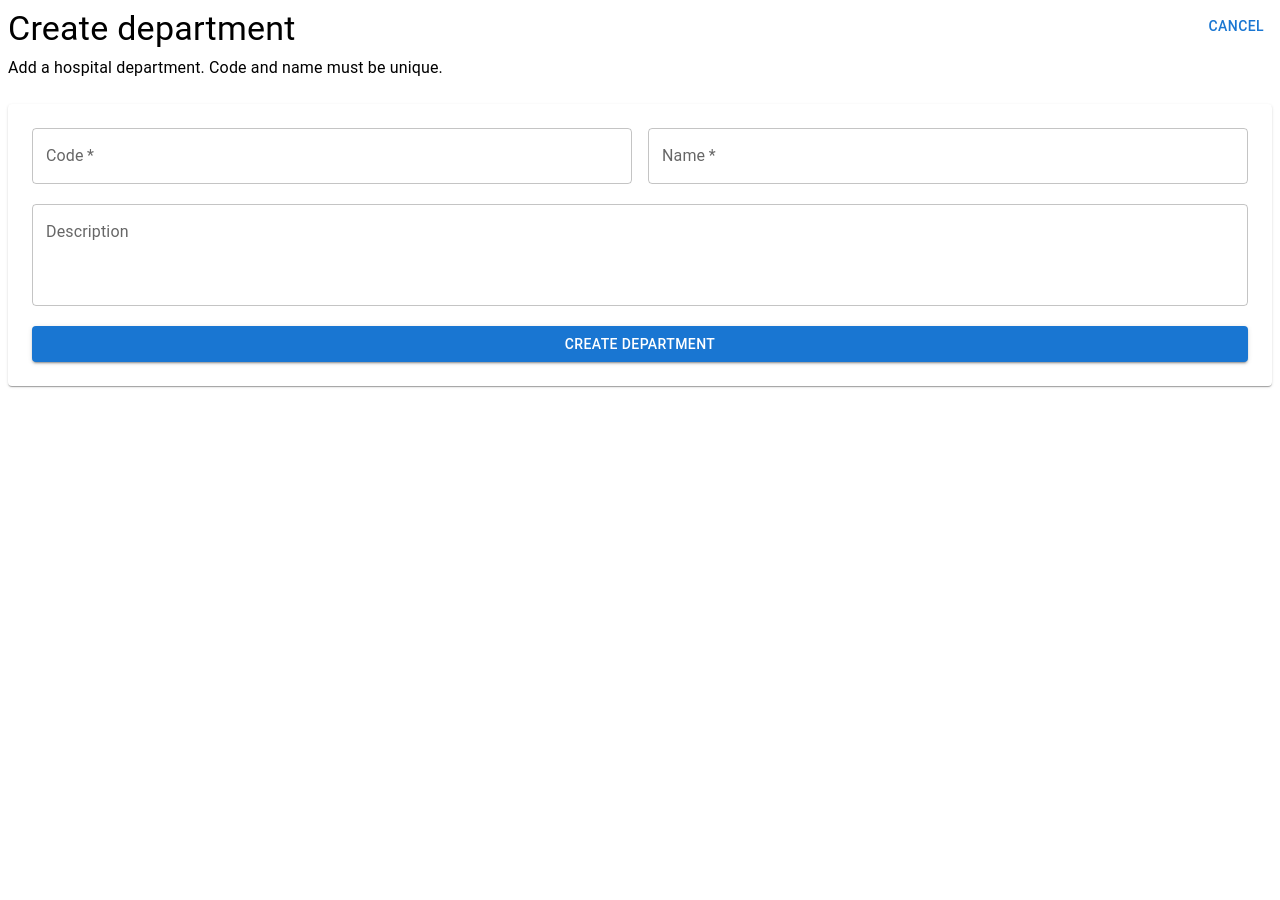
Scenario: department create and query invalidation › creates a department and navigates to details
Step 1. Type "CARD" into the field labelled "Code *" → (332, 156), box [32,128,632,184]
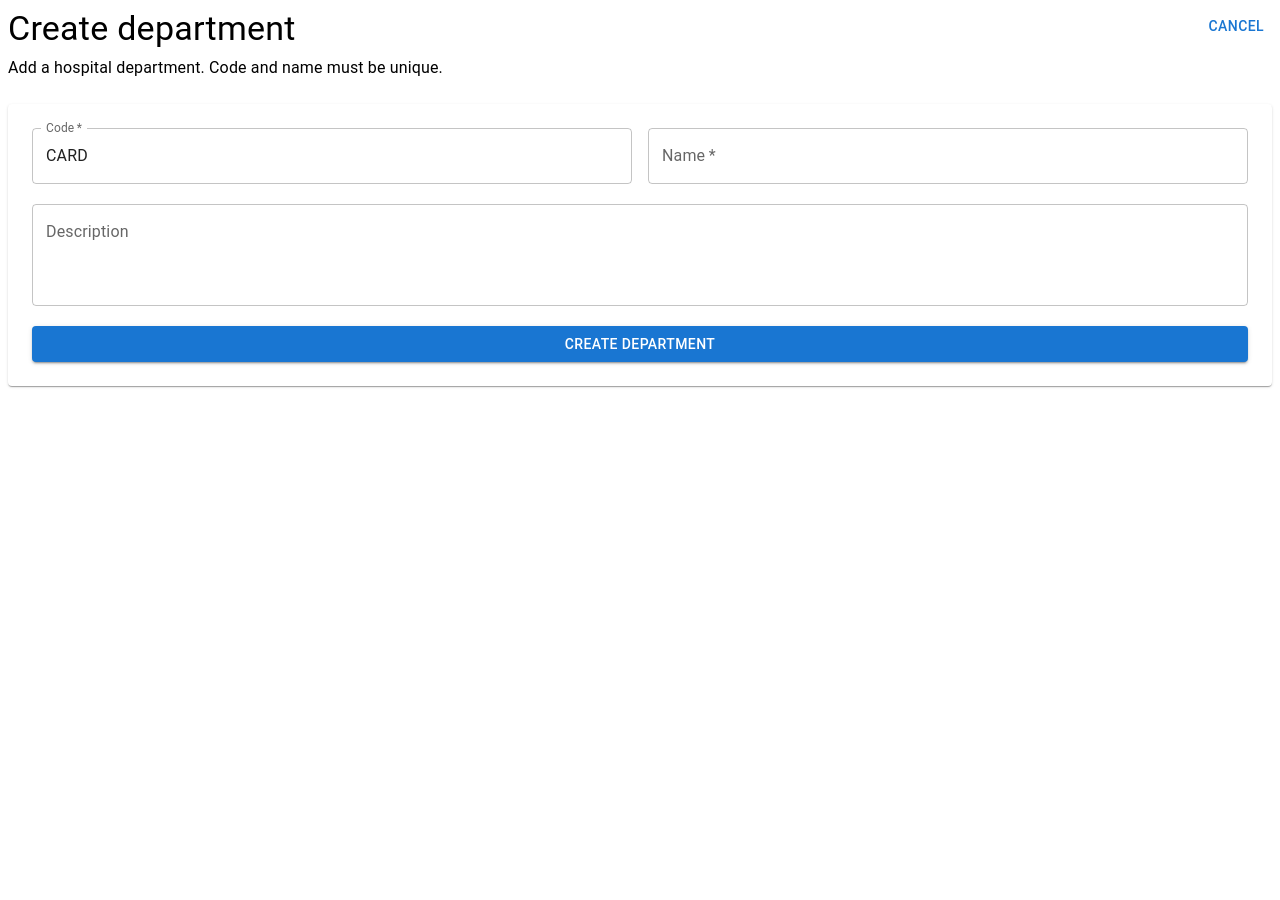
Step 2. Type "Cardiology" into the field labelled "Name *" → (948, 156), box [648,128,1248,184]
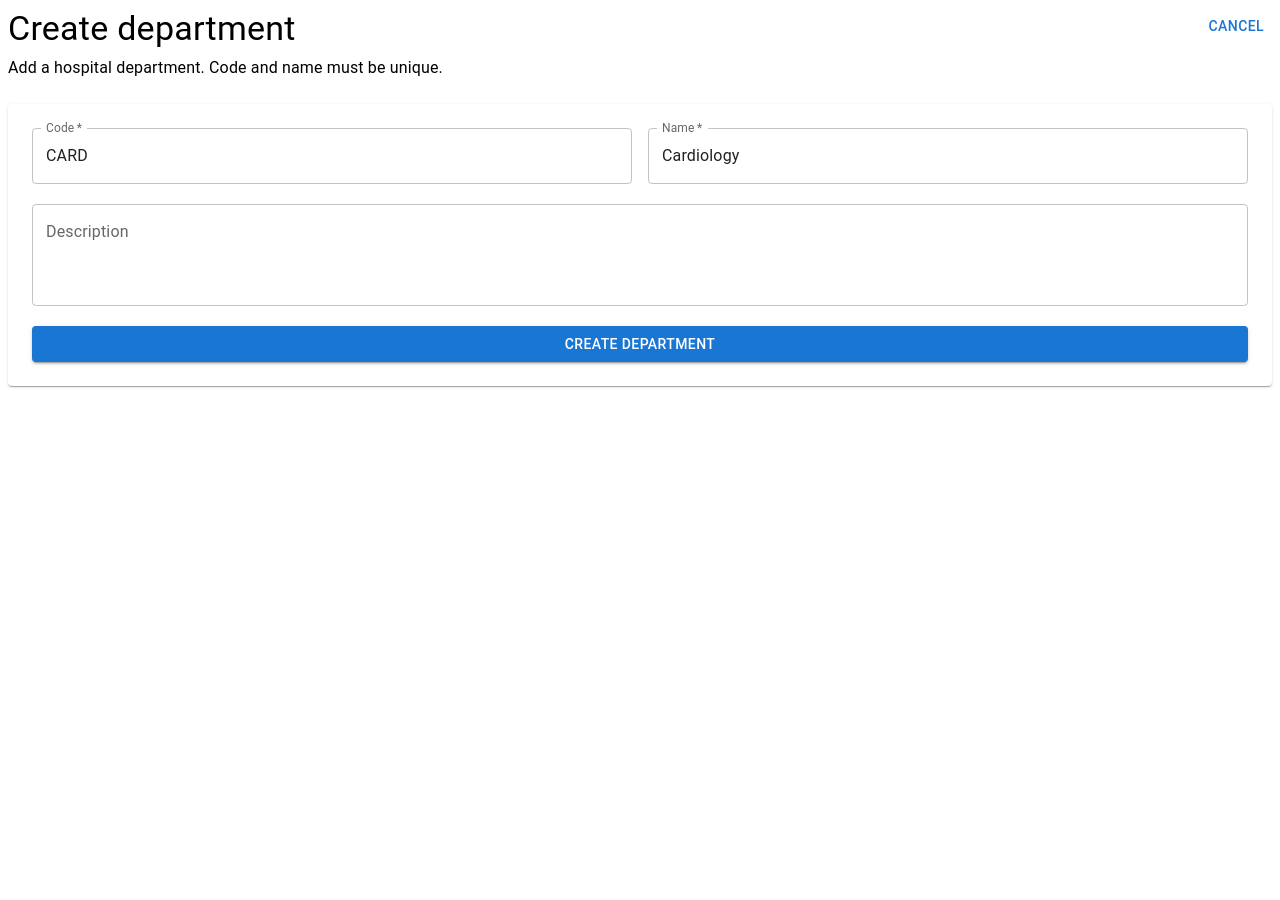
Step 3. Click the button "Create department" → (640, 344), box [32,326,1248,362]
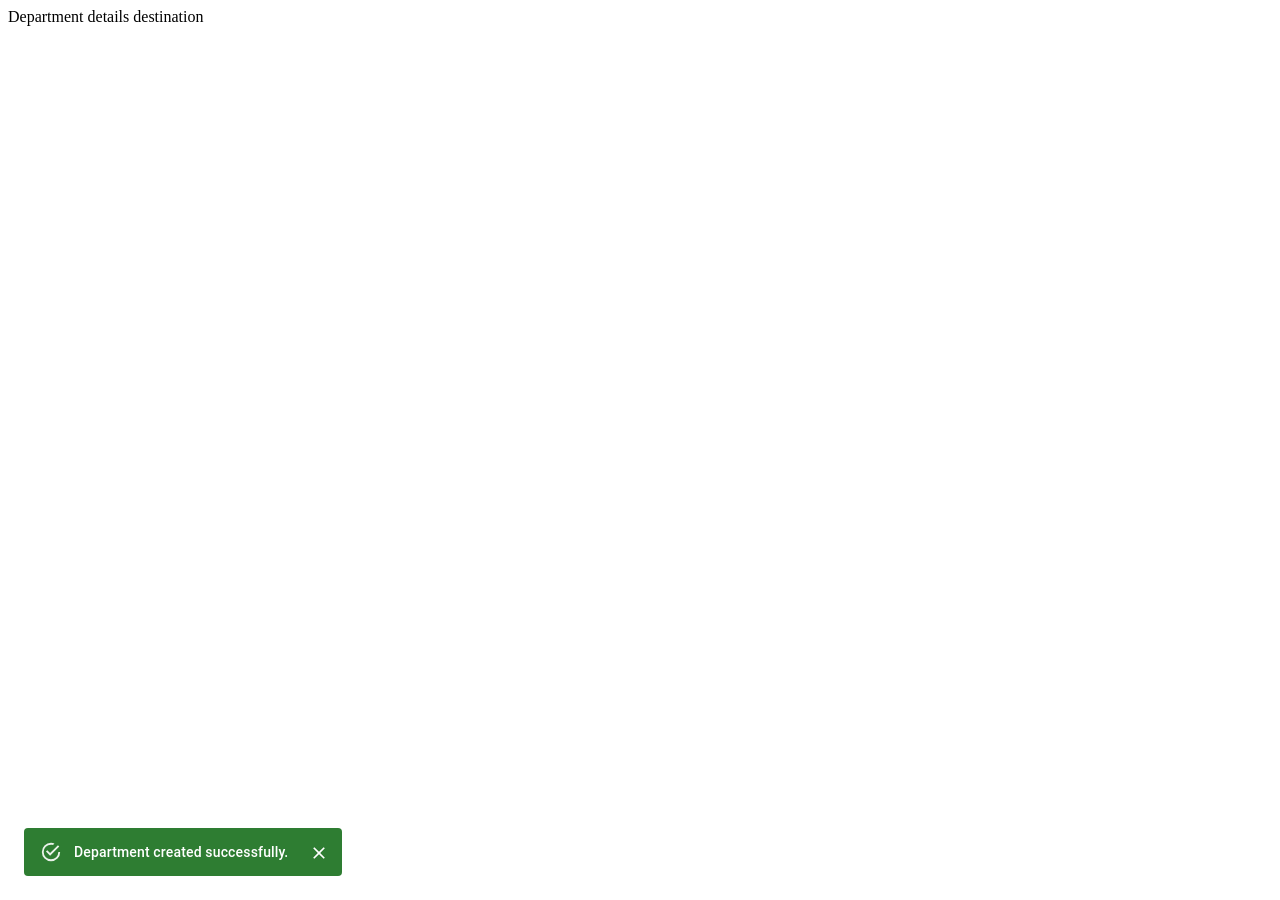
Result: the text "Department details destination" is shown at [8,8,204,25]
